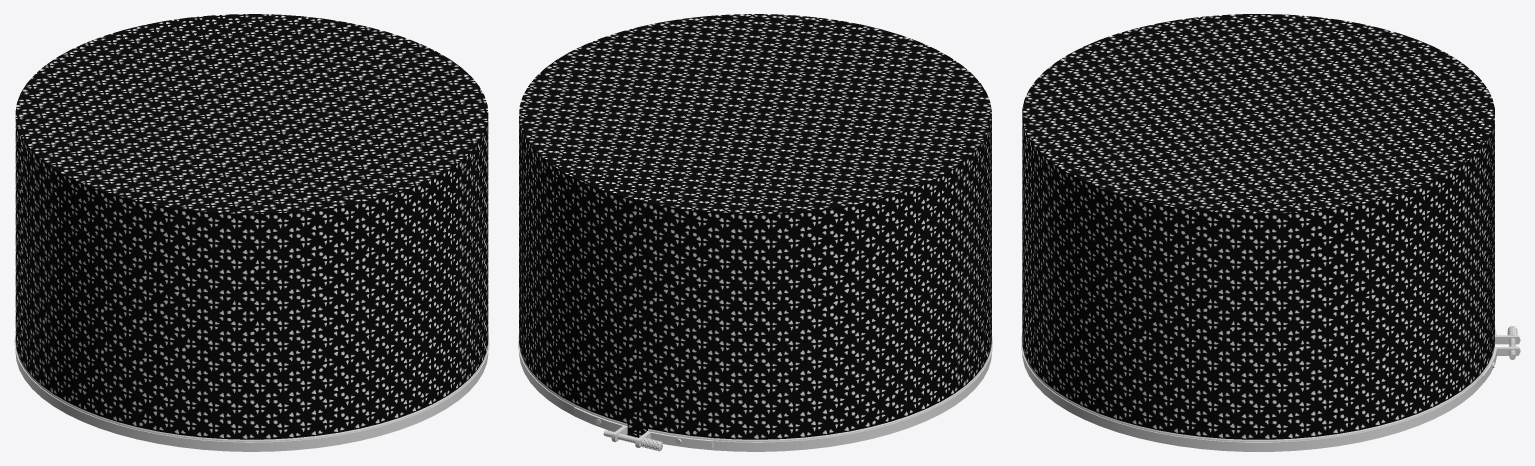
Rendered from Level.Bastidor.fbx.
The picture shows the model from 3 angles, left to right: view 1: azimuth 30°, elevation 25°; view 2: azimuth 150°, elevation 25°; view 3: azimuth 270°, elevation 25°; orthographic projection.
Parts seen in each view (by area): view 1: Wall.005, Bastidor; view 2: Wall.005, Bastidor; view 3: Wall.005, Bastidor.
Part boxes in pixels (box(x1,y1,x2,y2)): Wall.005: box(15, 14, 488, 439); Bastidor: box(14, 333, 489, 451); Wall.005: box(519, 14, 991, 439); Bastidor: box(518, 334, 992, 451); Wall.005: box(1022, 14, 1494, 439); Bastidor: box(1021, 326, 1520, 451).
Bounding box in the file's own units: 3047 × 1700 × 3205.
